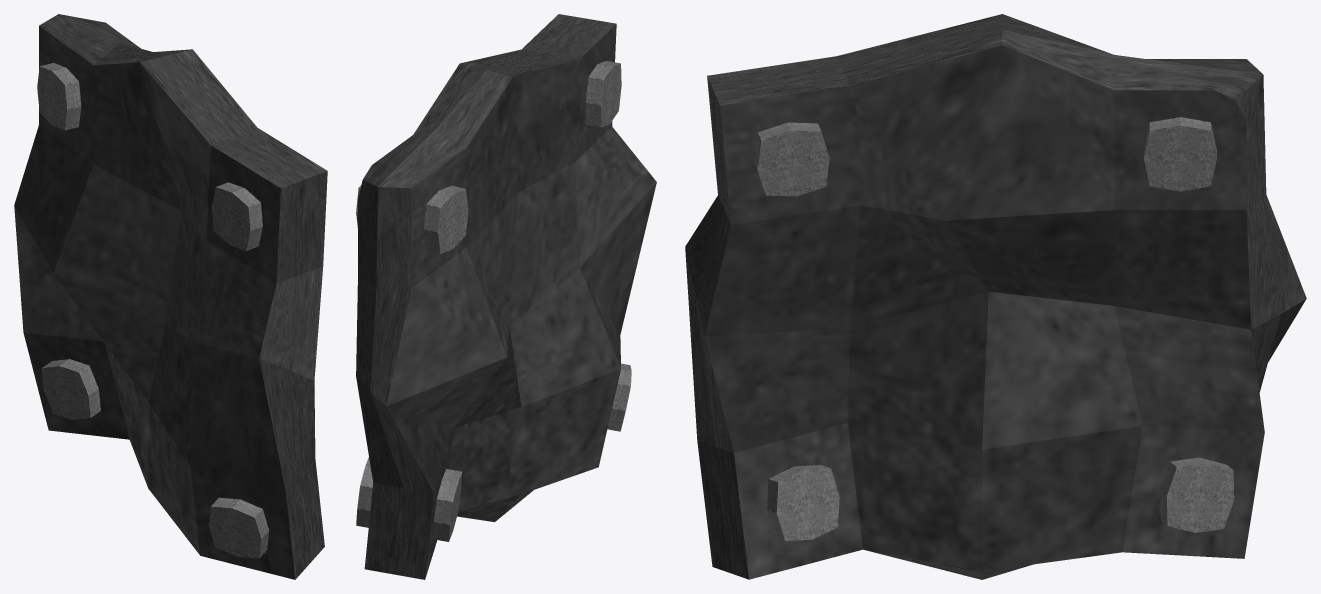
Rendered from Scrap3.fbx.
3 renders of one model, left to right at view 1: azimuth 30°, elevation 25°; view 2: azimuth 150°, elevation 25°; view 3: azimuth 270°, elevation 25°, orthographic. The views are drawn at different scales.
Parts seen in each view (by area): view 1: Scrap3; view 2: Scrap3; view 3: Scrap3.
Part boxes in pixels (x1=…): Scrap3: x1=14, y1=14, x2=327, y2=579; Scrap3: x1=356, y1=14, x2=656, y2=579; Scrap3: x1=685, y1=14, x2=1306, y2=579.
Bounding box in the file's own units: 64.52 × 230 × 235.
